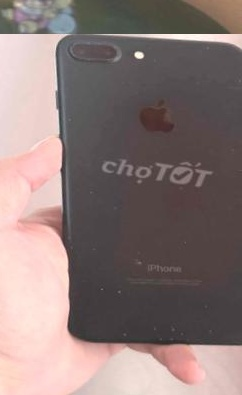scratch: (57, 230, 152, 274), (115, 314, 214, 354), (219, 218, 242, 342), (70, 185, 124, 232), (62, 34, 132, 68), (90, 279, 124, 299), (225, 142, 242, 176), (142, 41, 166, 63), (174, 230, 194, 249), (56, 107, 76, 124), (196, 298, 209, 308), (201, 44, 213, 54), (232, 74, 242, 86), (115, 77, 127, 87)
